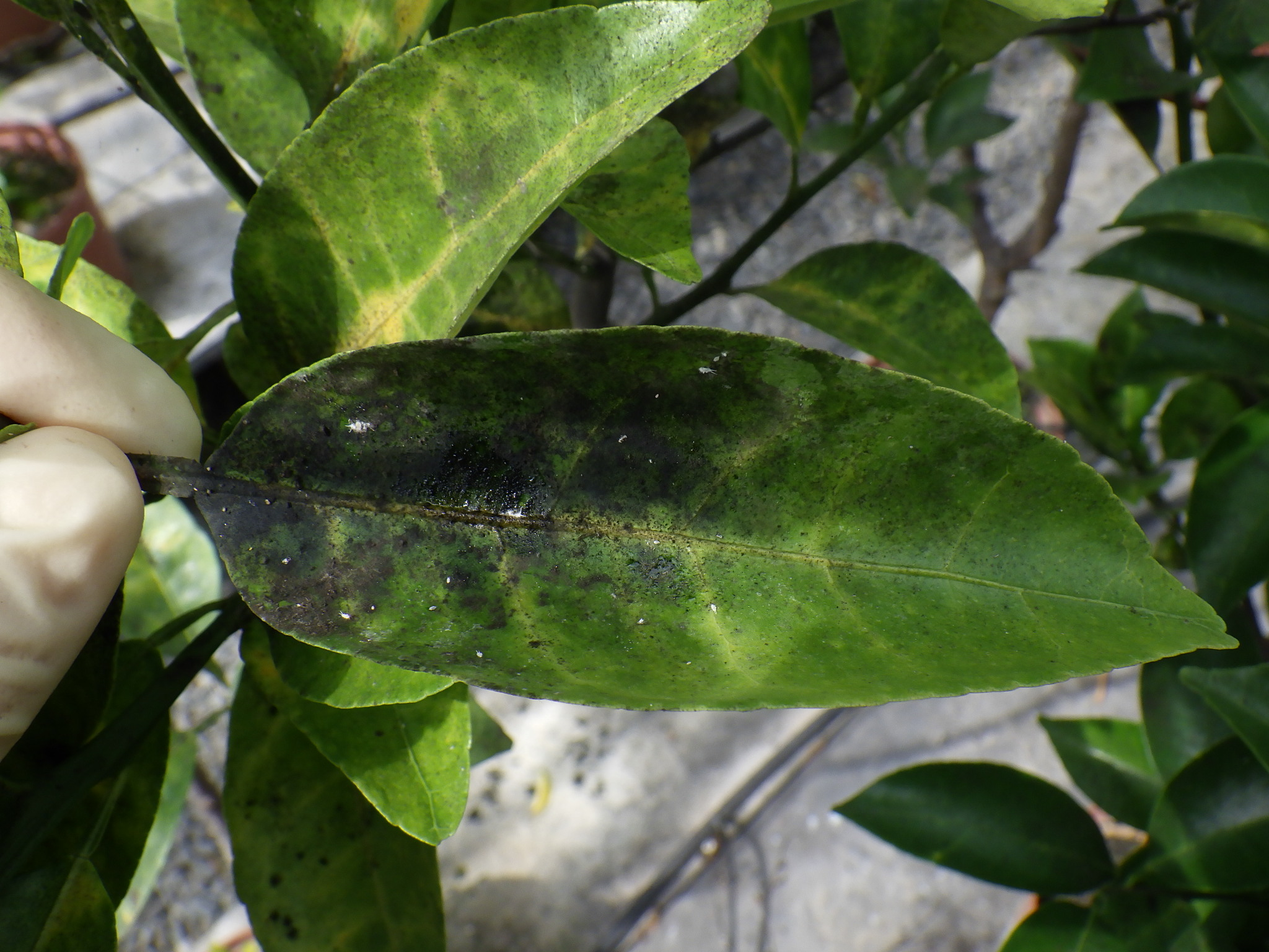Sooty_Mold: (184, 328, 1223, 708)
